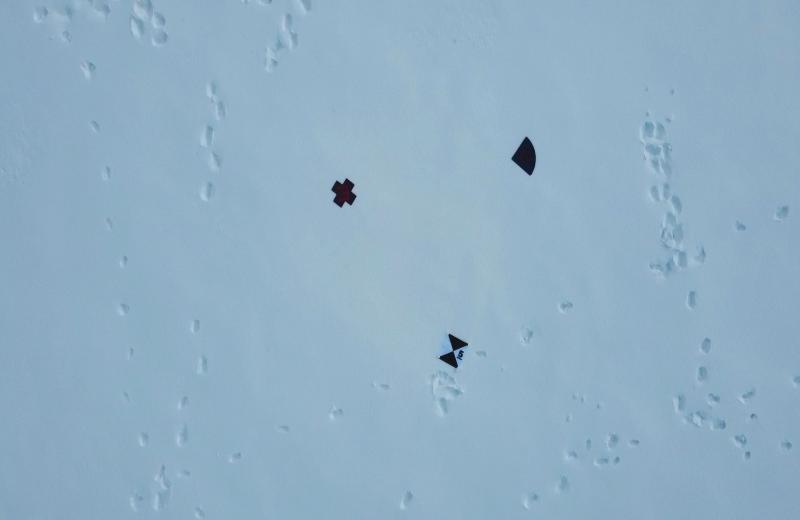Cross: (330, 175, 360, 212)
Quarter Circle: (510, 131, 538, 181)
